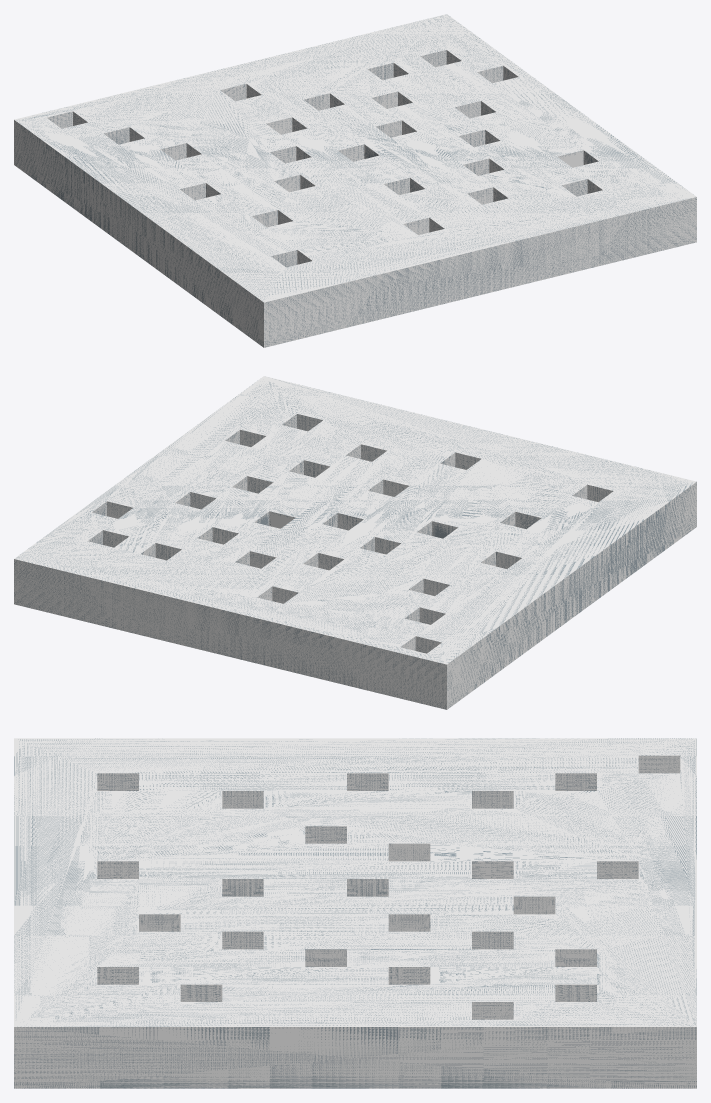
The picture shows the model from 3 angles, top to bottom: view 1: azimuth 30°, elevation 25°; view 2: azimuth 150°, elevation 25°; view 3: azimuth 270°, elevation 25°; orthographic projection. The views are drawn at different scales.
Parts seen in each view (by area): view 1: Model; view 2: Model; view 3: Model.
Boxes of the visible parts, x1,y1,x2,y2 form: Model: (14,14,696,347); Model: (14,376,696,709); Model: (14,738,696,1088).
Bounding box in the file's own units: 5 × 0.5 × 5.
